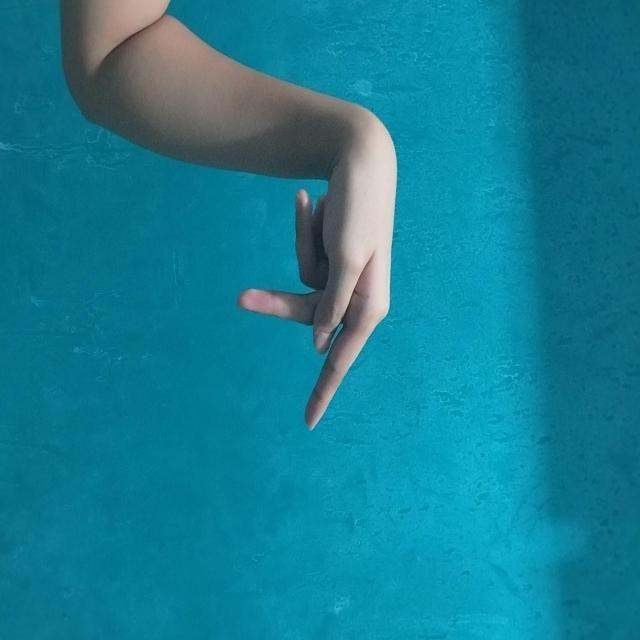P: (209, 145, 432, 477)
